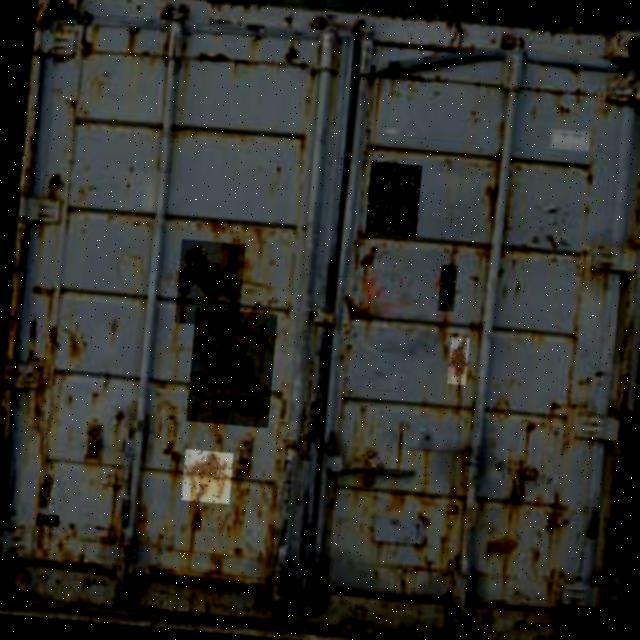rust: (187, 309, 279, 430), (173, 240, 246, 329), (366, 162, 423, 238), (182, 450, 234, 505), (448, 338, 470, 386), (439, 266, 459, 313), (39, 473, 56, 510), (37, 514, 60, 528)
